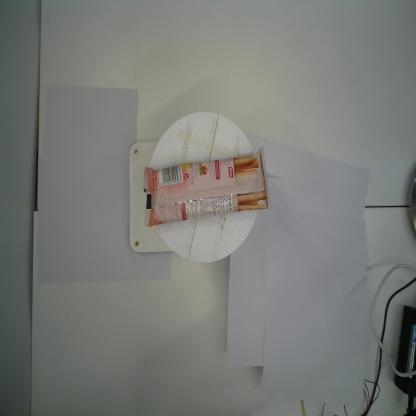Dessert: (140, 144, 274, 231)
